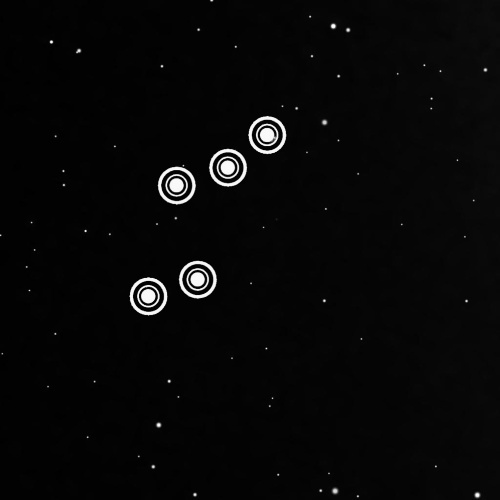lyra: (118, 89, 314, 327)
